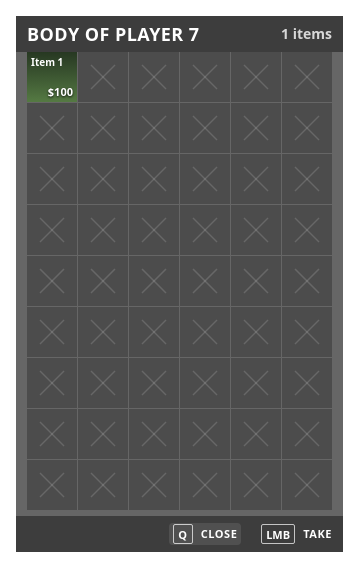
Test: SearchScreen › shows Search closed. on no_search and frees the tile
Later steps or results of the test are not shown.
Click the button "Item 1 $100": (52, 77) [27,52,77,102]
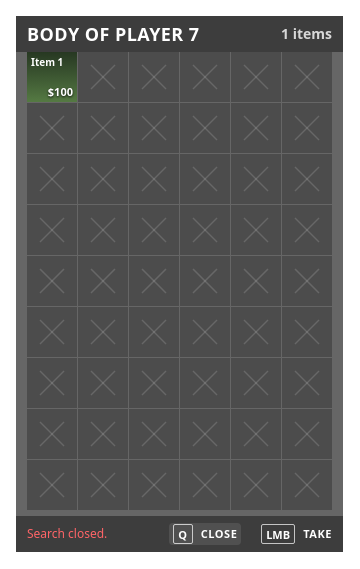
Check: the text "Search closed." is shown, box [27,525,107,542]
